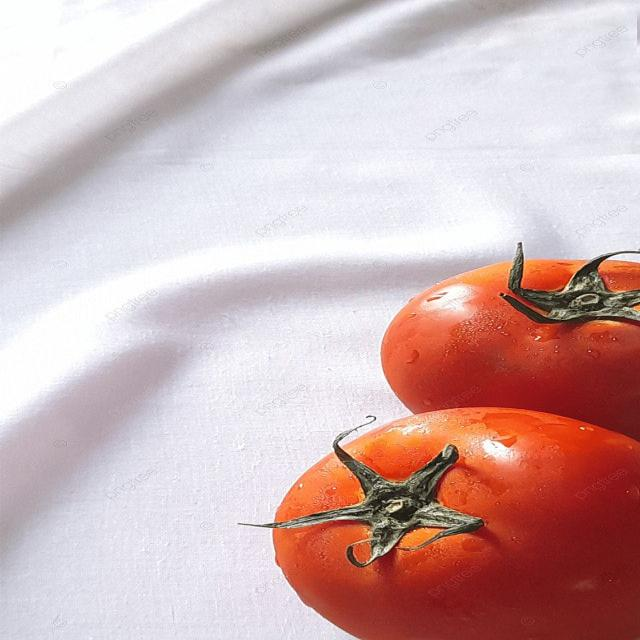tomato: (274, 408, 639, 639), (382, 247, 639, 439)
